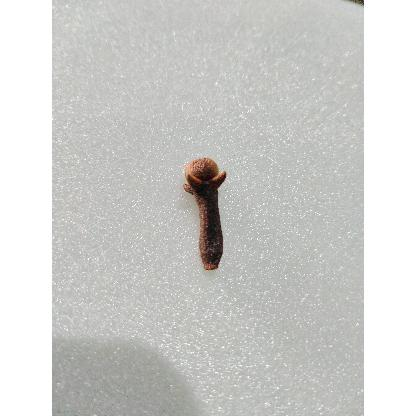baik: (184, 158, 227, 272)
